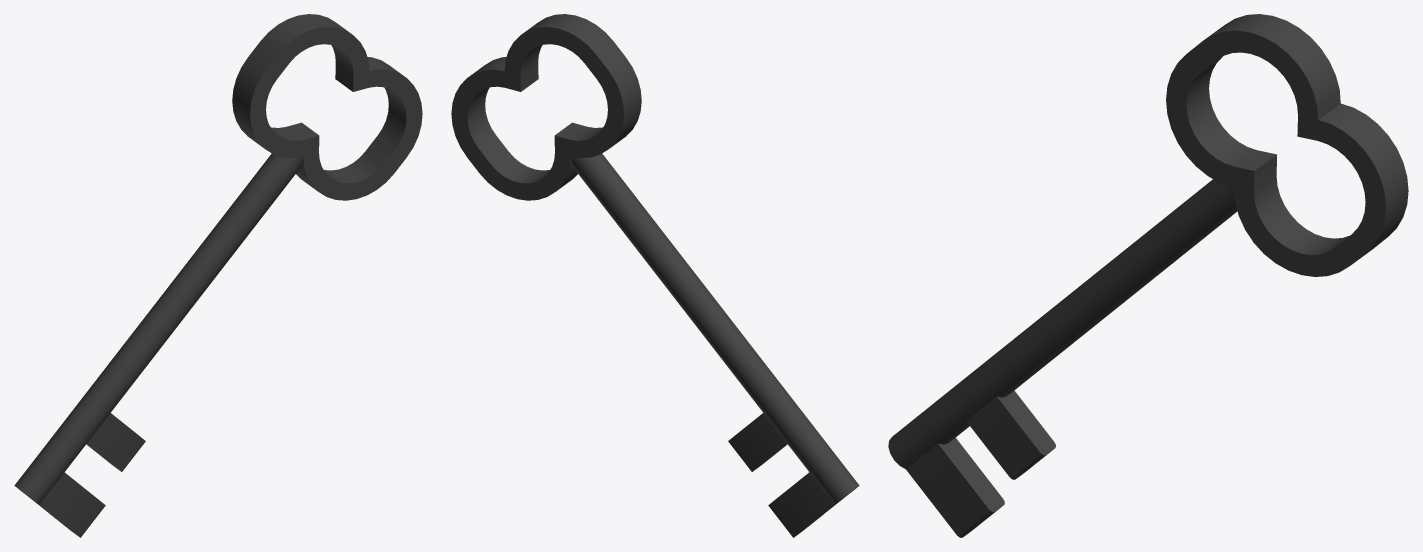
The model's file is old_key.gltf.
3 views of the same model, side by side, from view 1: azimuth 30°, elevation 25°; view 2: azimuth 150°, elevation 25°; view 3: azimuth 330°, elevation 25° (orthographic). The views are drawn at different scales.
Parts seen in each view (by area): view 1: Circle.2582; view 2: Circle.2582; view 3: Circle.2582.
Part boxes in pixels (box(x1,y1,x2,y2)): Circle.2582: box(14, 14, 422, 537); Circle.2582: box(451, 14, 859, 537); Circle.2582: box(888, 14, 1408, 537).
Size of the model in its own units: 2 by 2.2 by 0.1549.
1 material, 1 textured.
